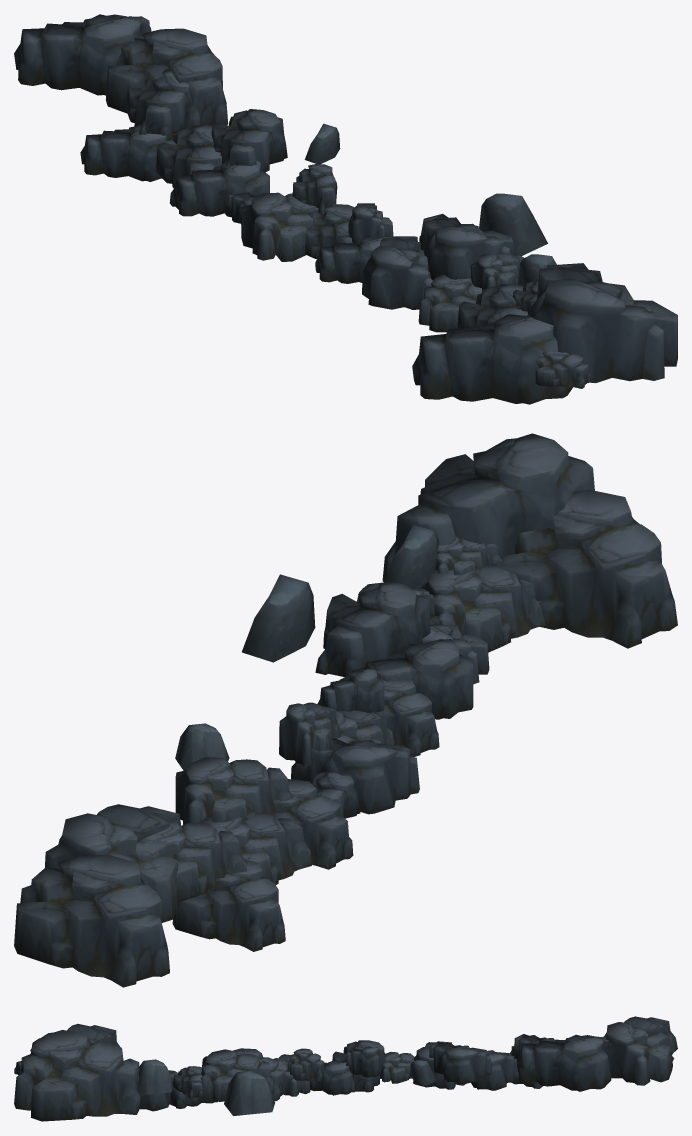
Rendered from Area_08_1.fbx.
The picture shows the model from 3 angles, top to bottom: view 1: azimuth 30°, elevation 25°; view 2: azimuth 150°, elevation 25°; view 3: azimuth 270°, elevation 25°; orthographic projection. The views are drawn at different scales.
Visible parts, largest first — view 1: Area_08_1; view 2: Area_08_1; view 3: Area_08_1.
Part boxes in pixels (<box>): Area_08_1: <box>14,14,677,404</box>; Area_08_1: <box>14,433,677,987</box>; Area_08_1: <box>14,1016,677,1121</box>.
Bounding box in the file's own units: 3129 × 1250 × 10836.
